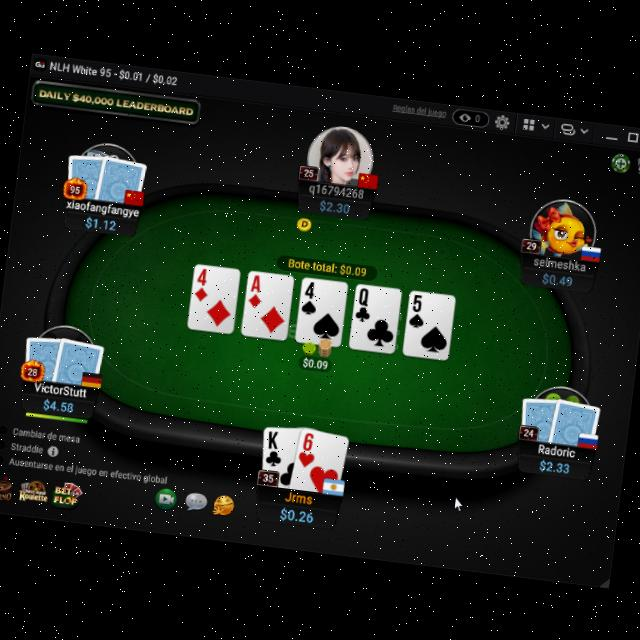4d: (192, 264, 211, 303)
4s: (299, 276, 321, 316)
5s: (406, 290, 428, 330)
6h: (296, 428, 318, 468)
9h: (296, 428, 318, 468)
Ad: (246, 270, 266, 310)
Kc: (264, 426, 287, 467)
Qc: (353, 284, 374, 322)
bet_text: (302, 354, 330, 372)
card_back: (546, 392, 603, 450), (52, 331, 108, 387), (93, 150, 149, 206), (61, 146, 111, 201), (19, 329, 68, 384), (517, 389, 563, 442)
dealer: (295, 215, 314, 232)
pot_text: (286, 255, 368, 278)
stack_text: (277, 502, 314, 523), (316, 198, 352, 216), (84, 214, 118, 232), (41, 396, 74, 414), (542, 270, 574, 288), (538, 457, 570, 474)
